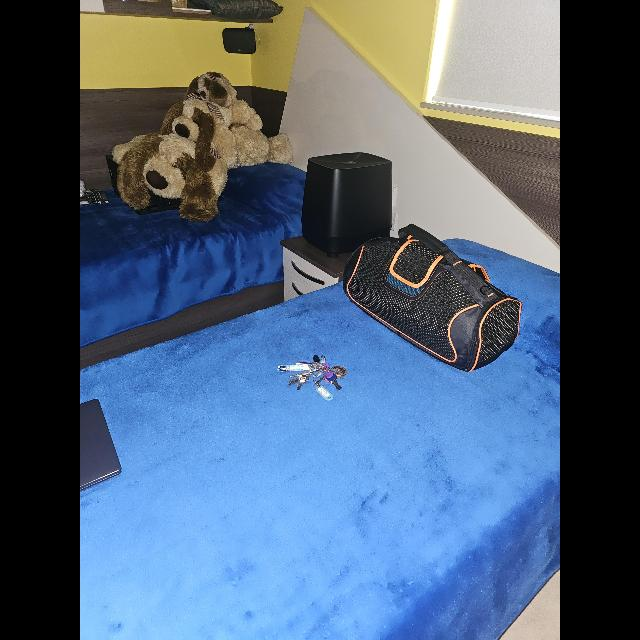Keys: (286, 355, 344, 391)
